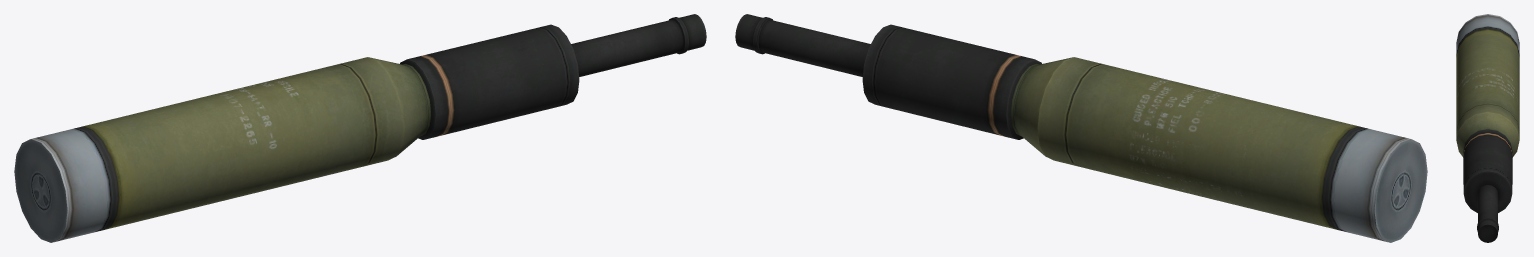
3 renders of one model, left to right at view 1: azimuth 30°, elevation 25°; view 2: azimuth 150°, elevation 25°; view 3: azimuth 270°, elevation 25°, orthographic. The views are drawn at different scales.
Parts seen in each view (by area): view 1: objAT_05_LOD0; view 2: objAT_05_LOD0; view 3: objAT_05_LOD0.
Part boxes in pixels (x1,y1,x2,y2): objAT_05_LOD0: [14, 14, 706, 242]; objAT_05_LOD0: [735, 14, 1427, 242]; objAT_05_LOD0: [1456, 14, 1519, 242].
Bounding box in the file's own units: 11.51 × 1.61 × 1.61.
